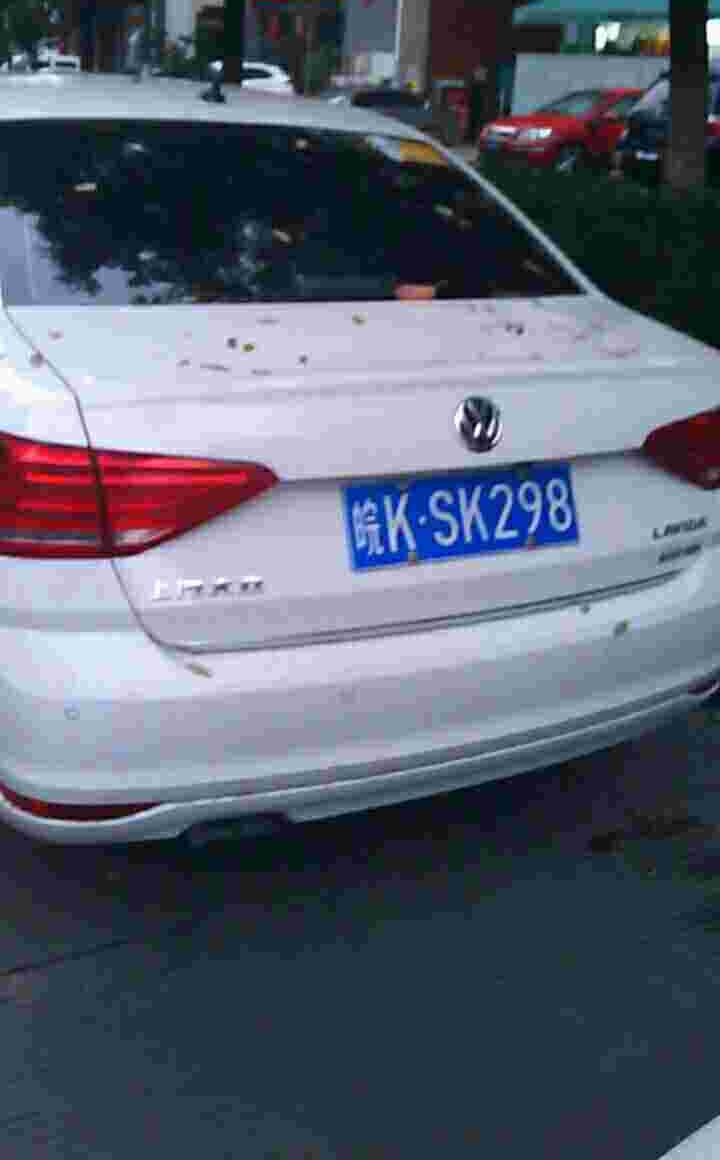license_plate: (337, 463, 582, 578)
